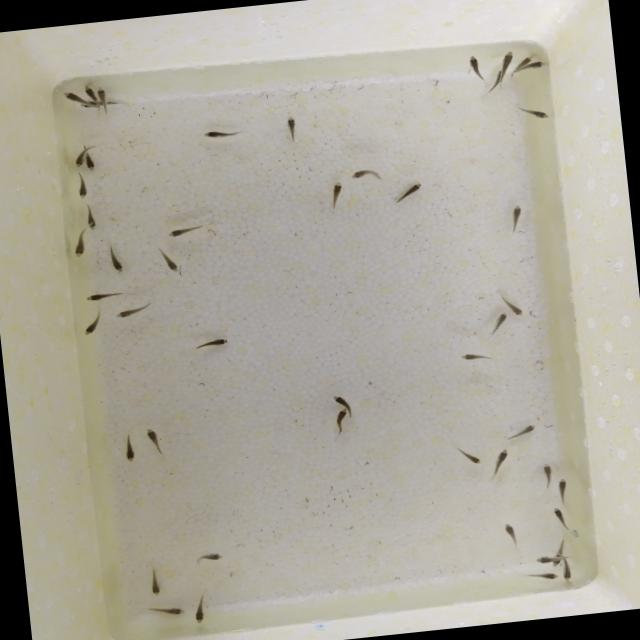fingerling: (388, 181, 426, 204), (518, 101, 551, 126), (142, 572, 168, 598), (110, 303, 150, 319), (160, 250, 184, 276), (140, 604, 187, 617), (160, 225, 203, 239), (106, 244, 124, 276), (454, 448, 486, 466), (502, 296, 526, 320), (325, 178, 346, 205), (343, 167, 386, 180), (196, 126, 232, 140), (119, 438, 138, 464), (69, 235, 90, 258), (462, 349, 492, 365), (504, 424, 538, 438), (144, 427, 165, 449), (492, 445, 509, 472), (200, 549, 228, 565), (190, 596, 206, 624), (82, 316, 102, 338), (58, 87, 82, 105), (490, 310, 508, 334), (558, 559, 576, 583), (509, 202, 527, 226), (502, 520, 520, 542), (333, 404, 351, 425), (82, 208, 99, 230), (331, 393, 354, 409), (284, 114, 298, 140), (198, 337, 230, 348), (74, 178, 90, 199), (551, 501, 565, 525), (465, 52, 480, 74), (534, 568, 560, 580), (84, 290, 112, 301), (518, 61, 546, 72), (531, 554, 557, 565), (82, 83, 96, 102), (540, 462, 554, 480), (72, 151, 88, 166), (502, 48, 512, 72), (558, 476, 568, 498), (96, 86, 108, 104), (86, 156, 97, 172), (522, 54, 534, 64), (496, 68, 504, 82)
